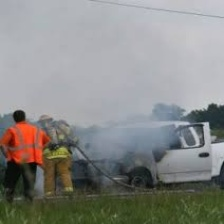smoke: (98, 116, 157, 149)
